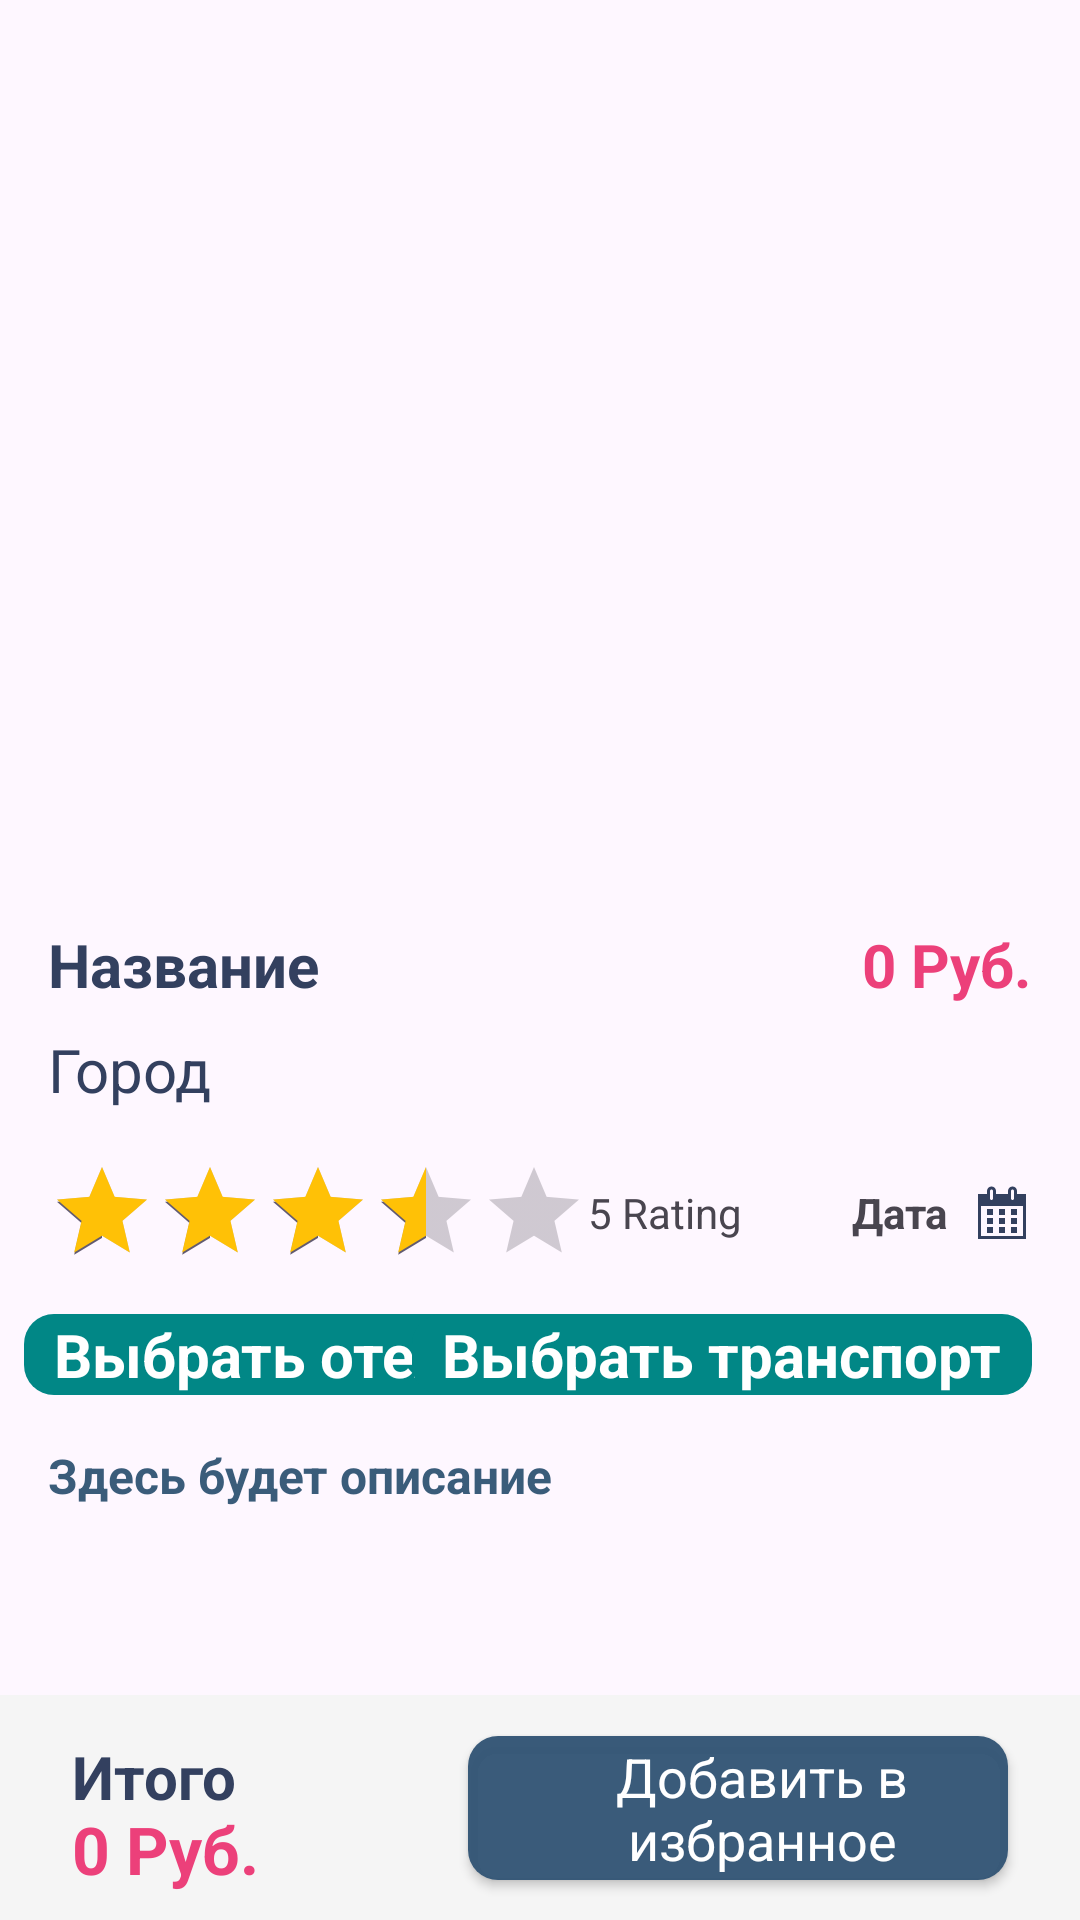

Icon bounding boxes for this 1080x1920 phone screenshot, format (x1, y1, x2, y2):
calendar: (978, 1186, 1026, 1239)
